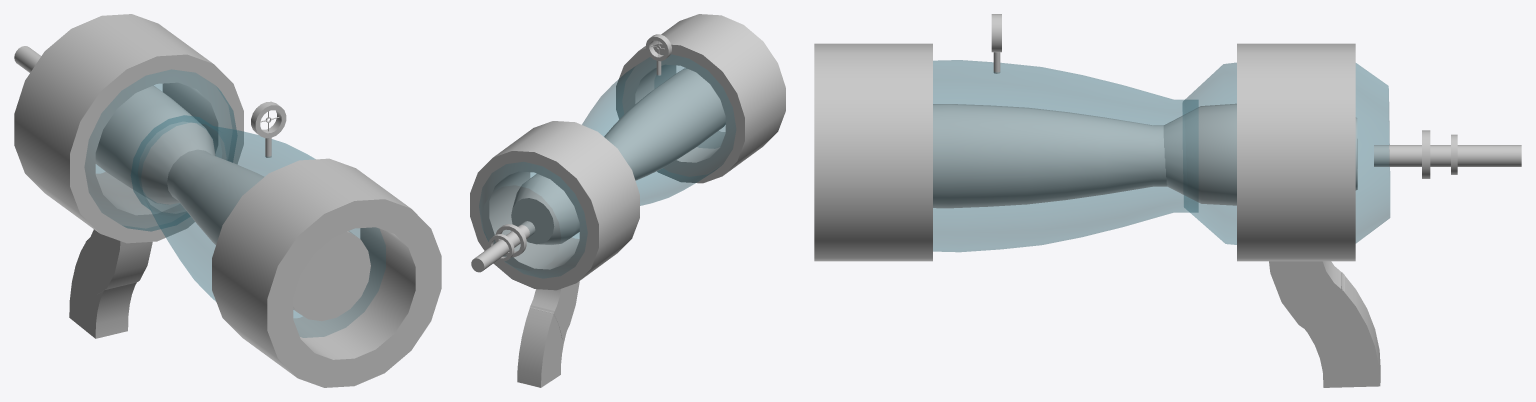
Rendered from pistola.fbx.
3 renders of one model, left to right at view 1: azimuth 30°, elevation 25°; view 2: azimuth 150°, elevation 25°; view 3: azimuth 270°, elevation 25°, orthographic. The views are drawn at different scales.
Parts seen in each view (by area): view 1: Tube004, Tube009, Cylinder011, Cylinder019, Box002, Tube007, Cylinder012; view 2: Cylinder011, Tube009, Tube004, Cylinder019, Box002, Cylinder012, Tube007, Tube005, Tube006; view 3: Cylinder011, Cylinder019, Tube004, Tube009, Box002, Cylinder012.
Part boxes in pixels (x1,y1,x2,y2): Tube004: (212, 158, 441, 387); Tube009: (14, 14, 243, 243); Cylinder011: (85, 69, 385, 337); Cylinder019: (95, 85, 370, 321); Box002: (69, 229, 152, 338); Tube007: (251, 101, 286, 138); Cylinder012: (14, 46, 41, 72); Cylinder011: (479, 54, 735, 278); Tube009: (470, 121, 639, 290); Tube004: (616, 14, 785, 183); Cylinder019: (511, 68, 725, 244); Box002: (517, 281, 579, 387); Cylinder012: (471, 221, 535, 272); Tube007: (646, 34, 671, 61); Tube005: (495, 224, 526, 257); Tube006: (488, 234, 514, 261); Cylinder011: (933, 60, 1389, 251); Cylinder019: (933, 103, 1357, 208); Tube004: (814, 43, 932, 261); Tube009: (1237, 43, 1355, 261); Box002: (1269, 261, 1380, 387); Cylinder012: (1374, 145, 1521, 166).
Bounding box in the file's own units: 158 × 296 × 519.
